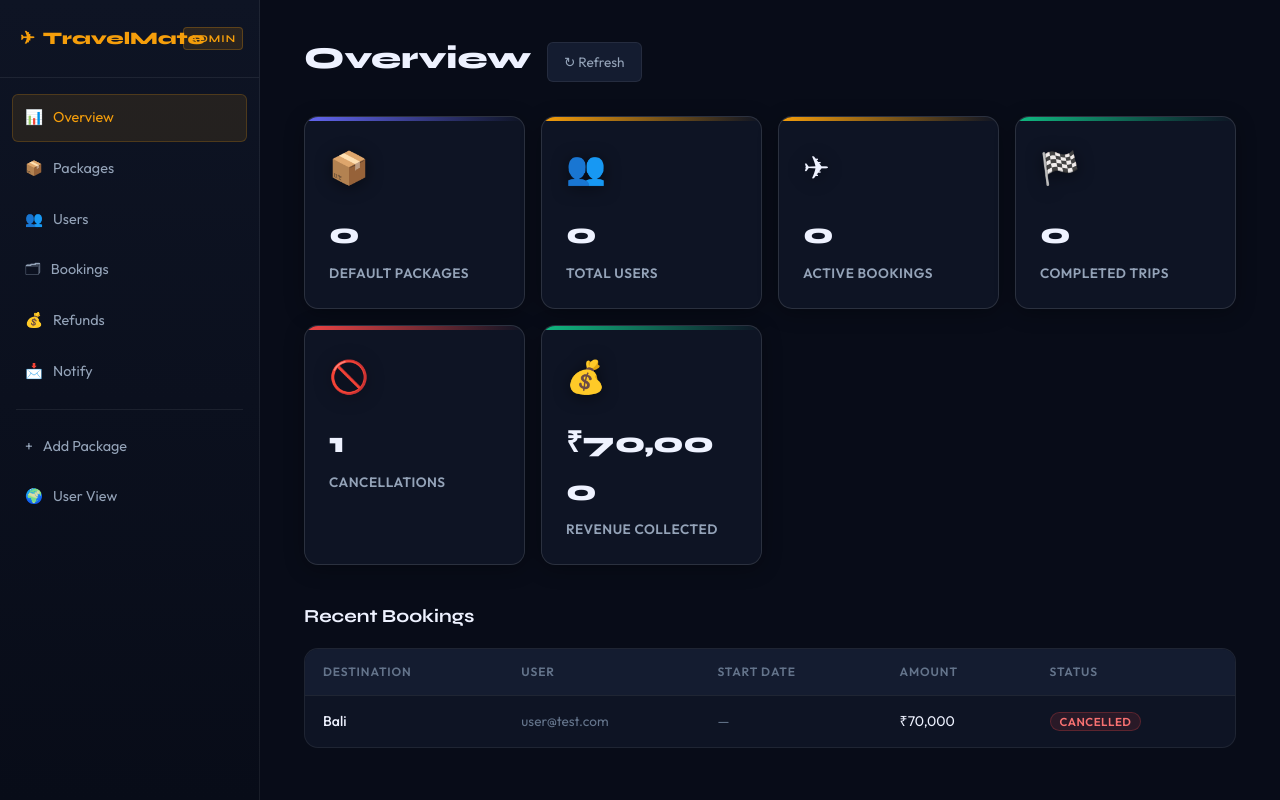
AdminDashboard Component › renders Refunds tab with pending refund requests
Click the text "Refunds".
click(79, 321)  # box x1=53 y1=309 x2=105 y2=333
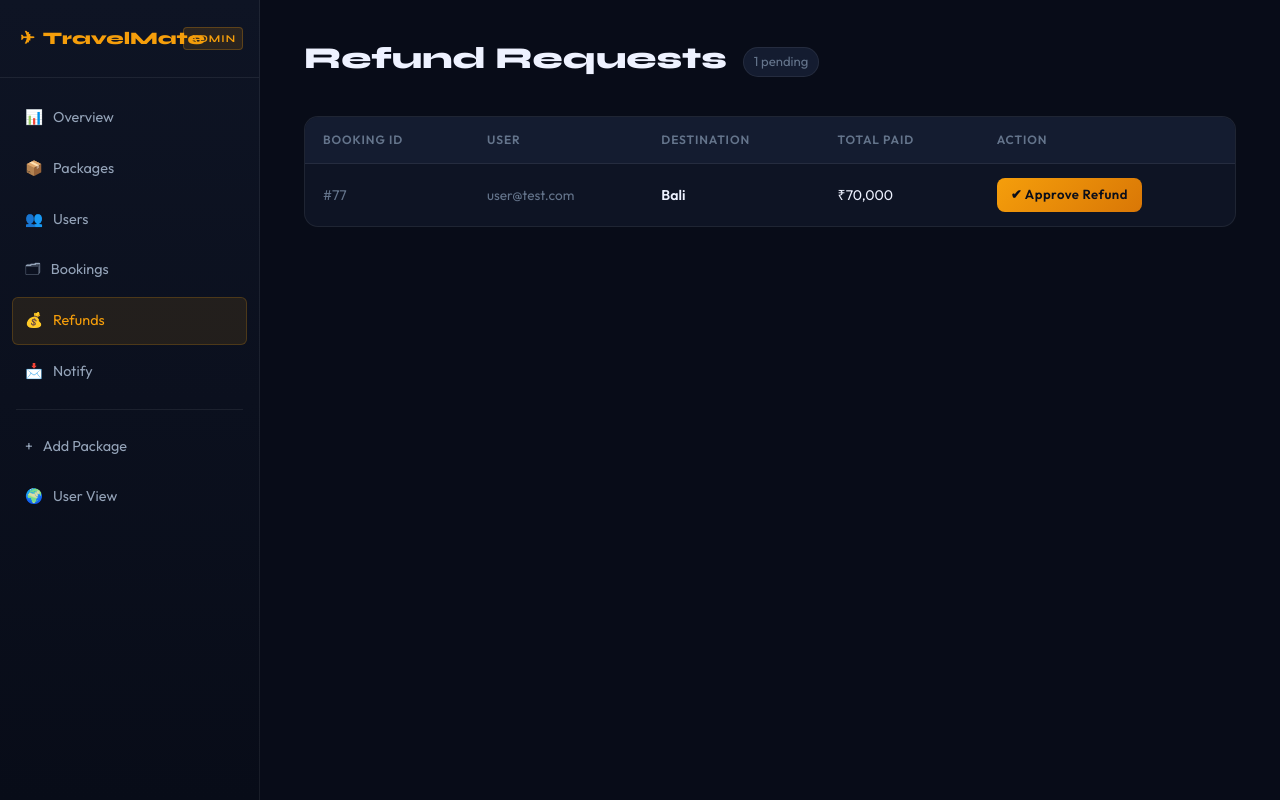
Now the heading "Refund Requests" is shown, box x1=304 y1=40 x2=727 y2=76
Now the text "Bali" is shown, box x1=643 y1=164 x2=820 y2=226
Now the text "1 pending" is shown, box x1=743 y1=47 x2=819 y2=77
